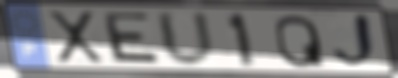1: (224, 11, 259, 70)
E: (102, 10, 164, 67)
J: (331, 12, 382, 72)
Q: (273, 13, 328, 69)
U: (153, 9, 219, 70)
X: (44, 10, 107, 66)
